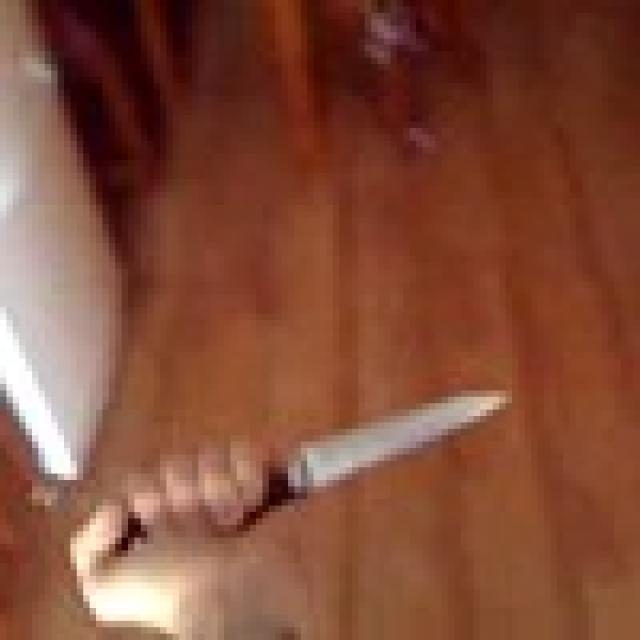Knife: (122, 384, 506, 506)
